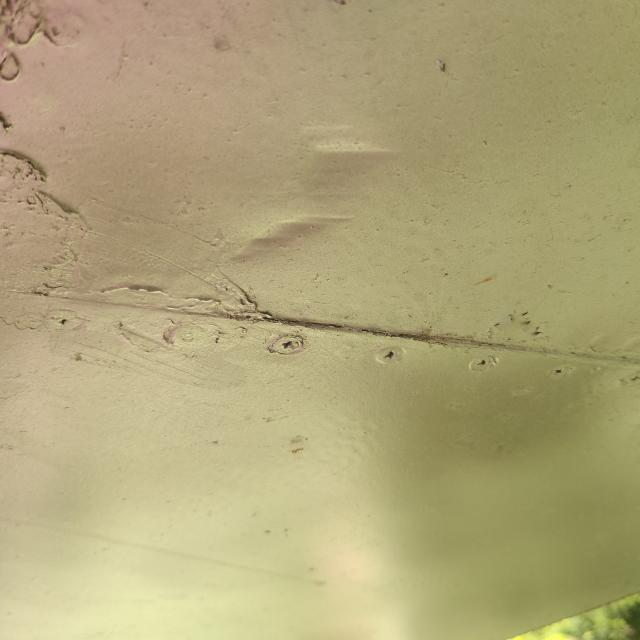dent: (218, 106, 403, 284)
